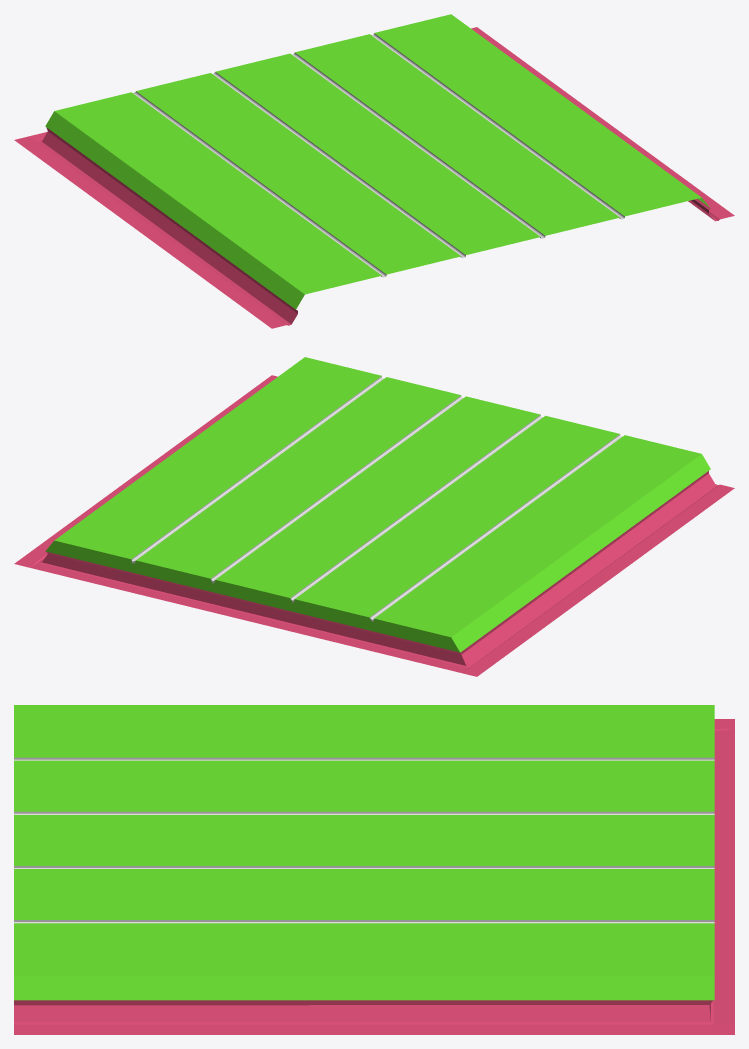
Rendered from L1V2_Corner_Roof_V3.fbx.
3 views of the same model, one above another, from view 1: azimuth 30°, elevation 25°; view 2: azimuth 150°, elevation 25°; view 3: azimuth 270°, elevation 25° (orthographic). The views are drawn at different scales.
Parts seen in each view (by area): view 1: Plane.006; view 2: Plane.006; view 3: Plane.006.
Boxes of the visible parts, x1=… form: Plane.006: x1=14, y1=14, x2=734, y2=328; Plane.006: x1=14, y1=357, x2=734, y2=676; Plane.006: x1=14, y1=705, x2=734, y2=1034.
Bounding box in the file's own units: 1506 × 84.89 × 1453.
